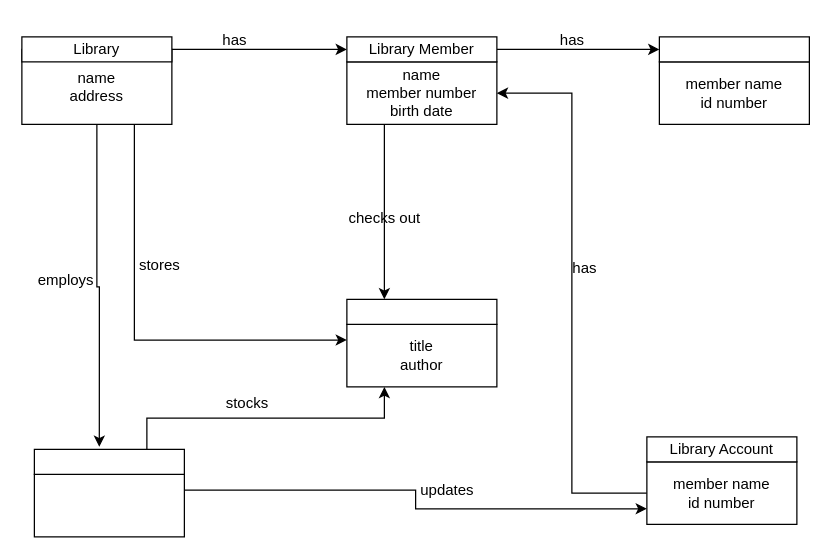
Image size: 831x559. Some labels were removed from this diagram. The centre of each missing label's shape, as x and y in pixels:
"book" goes at point (421, 311).
"Librarian" goes at point (108, 461).
"Library card" goes at point (733, 49).
"name birth date" goes at point (108, 505).
